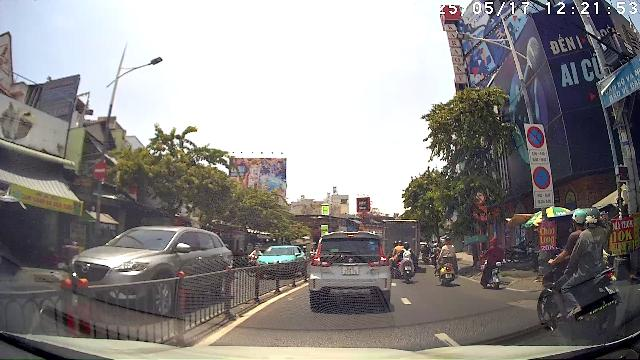130-cam-dung-va-do-xe: (527, 125, 545, 148)
131a-cam-do-xe: (533, 165, 551, 190)
